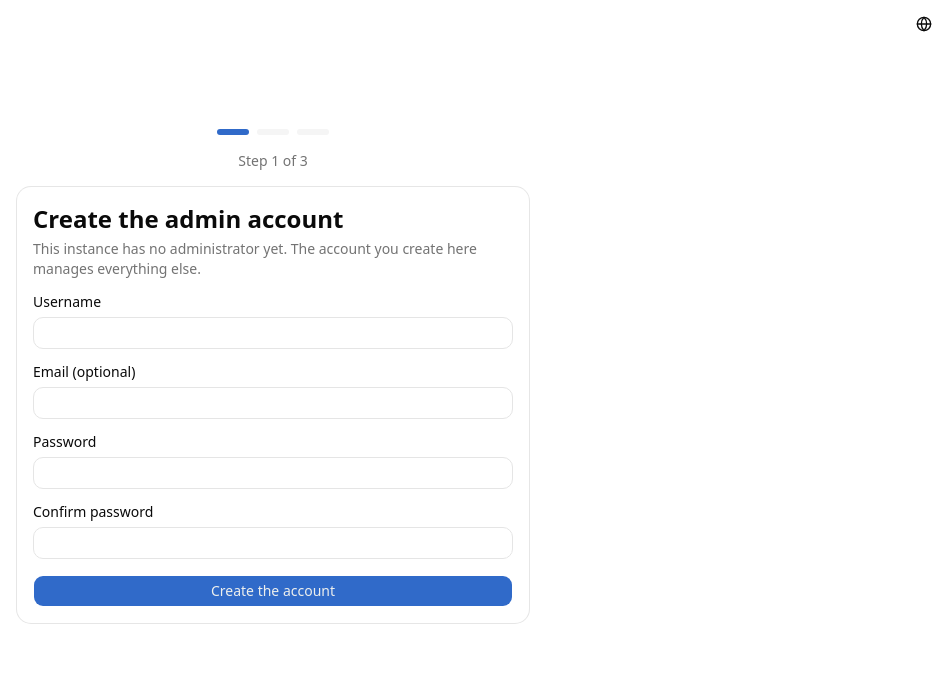
Test: tells a created admin to sign in when reloading the account fails
Type "root" into the field labelled "Username".
click(273, 333); type("root")  # box [33,317,513,349]
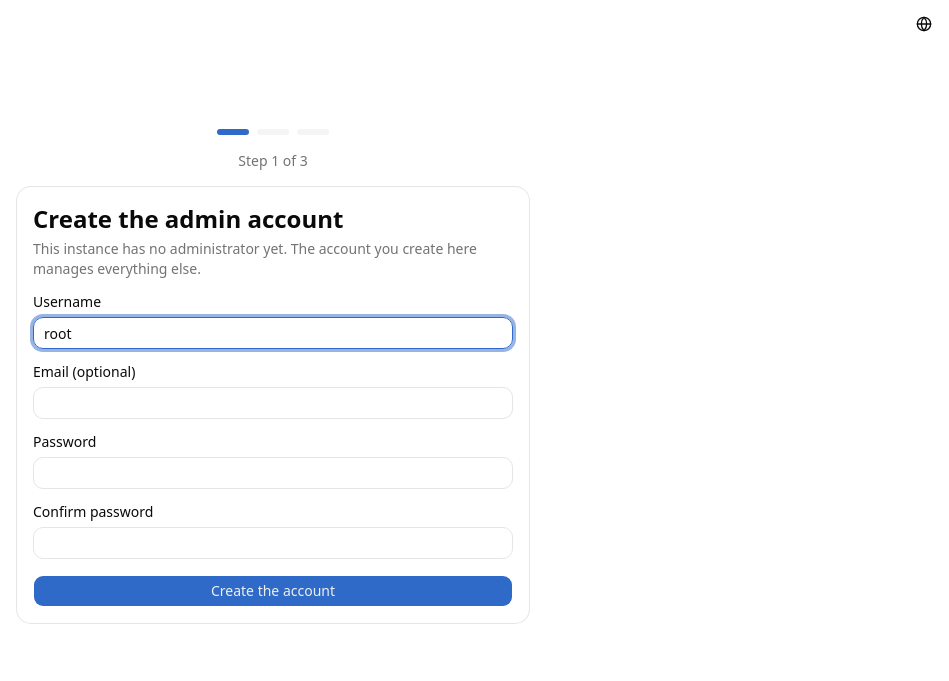
Type "strongpass" into the password field labelled "Password".
click(273, 473); type("strongpass")  # box [33,457,513,489]
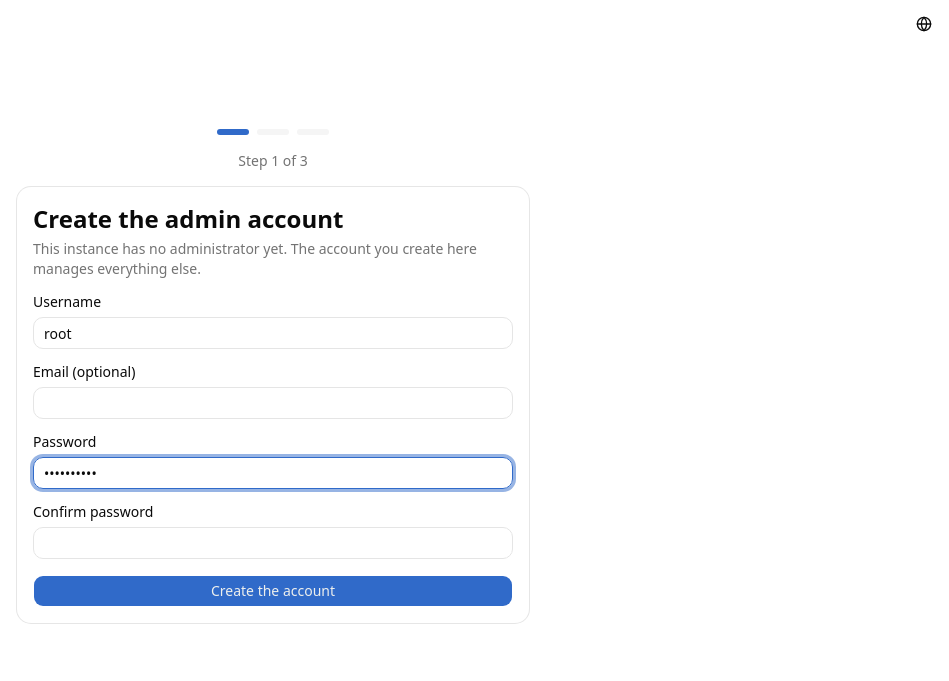
Type "strongpass" into the password field labelled "Confirm password".
click(273, 543); type("strongpass")  # box [33,527,513,559]
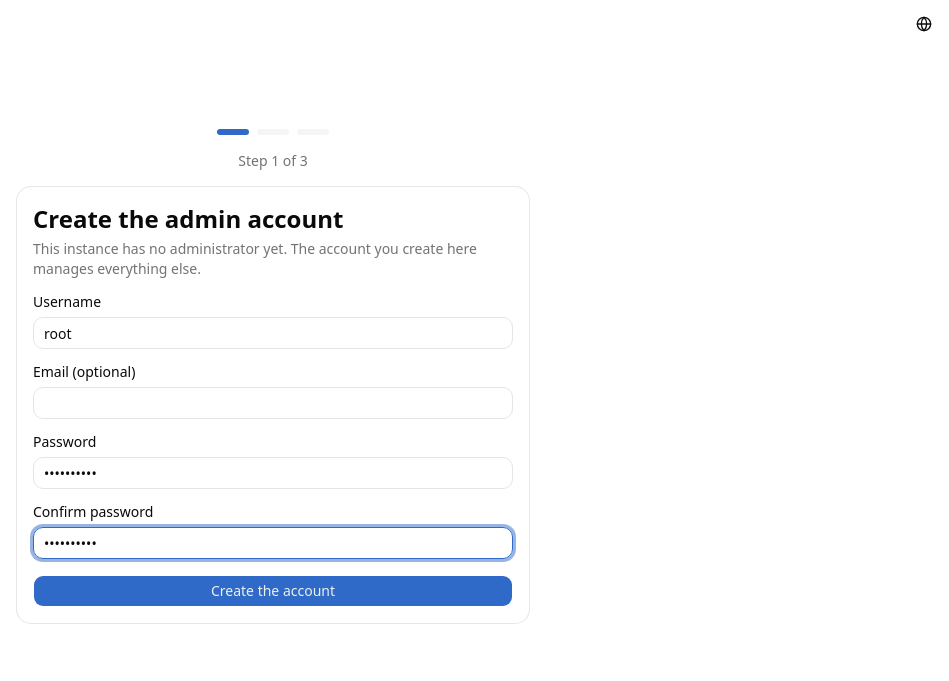
Click the button "Create the account".
click(273, 591)  # box [33,575,513,607]
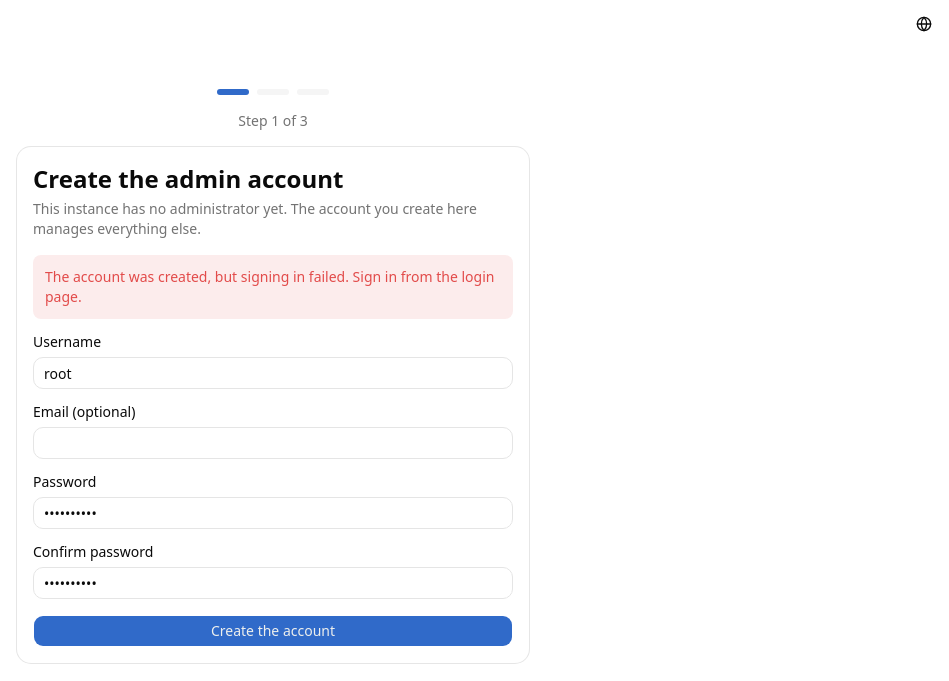
Now the text "The account was created, but signing in failed" is shown, box [45,267,494,306]
